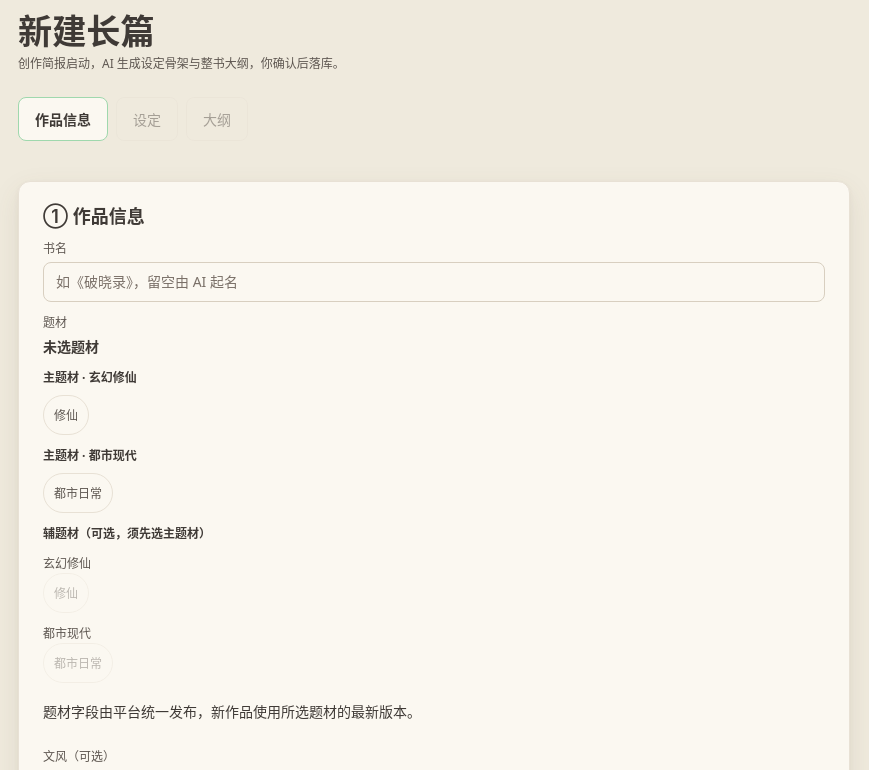
Test: offers the realm ladder only for genres that have one
Click the 1st button "修仙".
click(66, 415)  # box [43,395,89,435]
(page scrolled)
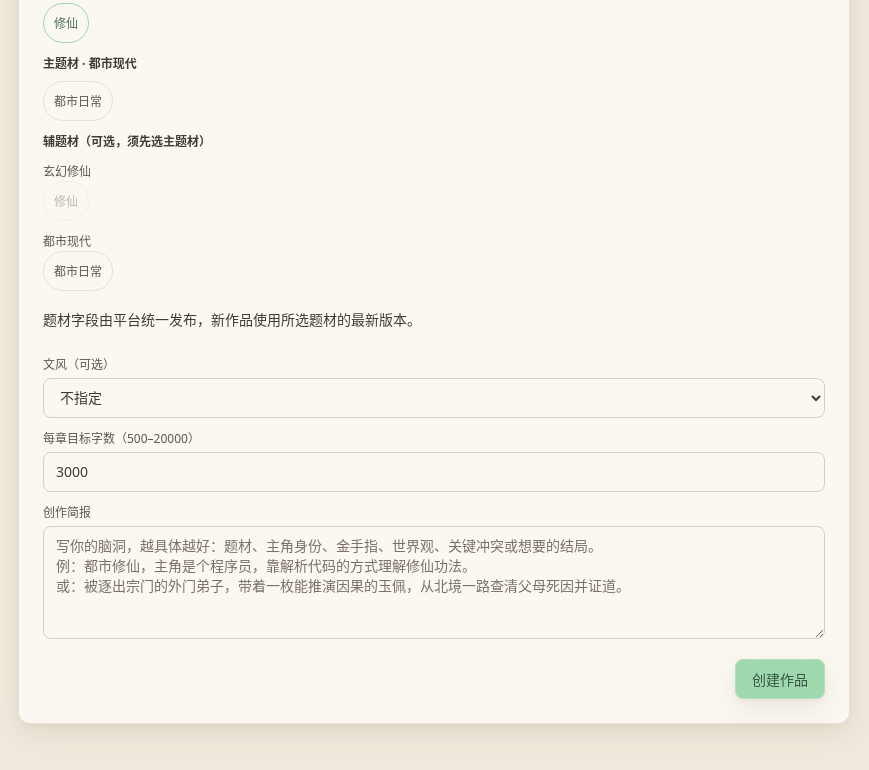
Replace the text in the text box labelled "创作简报" with "寻找真相" at {"x": 434, "y": 582}, box [43,526,825,639]
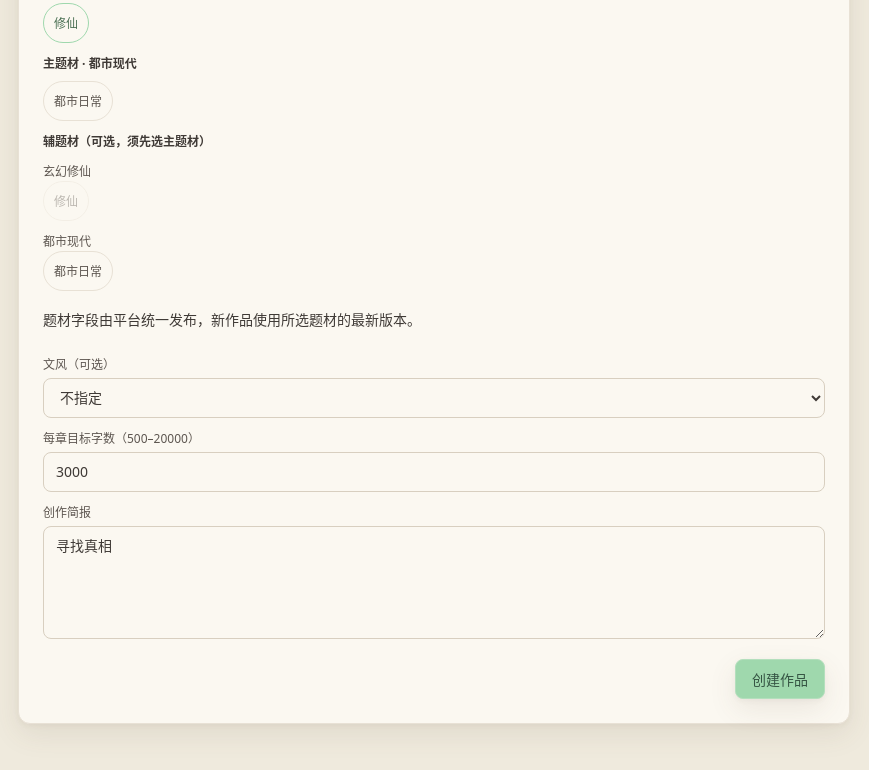
Click the button "创建作品".
click(780, 679)  # box [735,659,825,699]
(page scrolled)
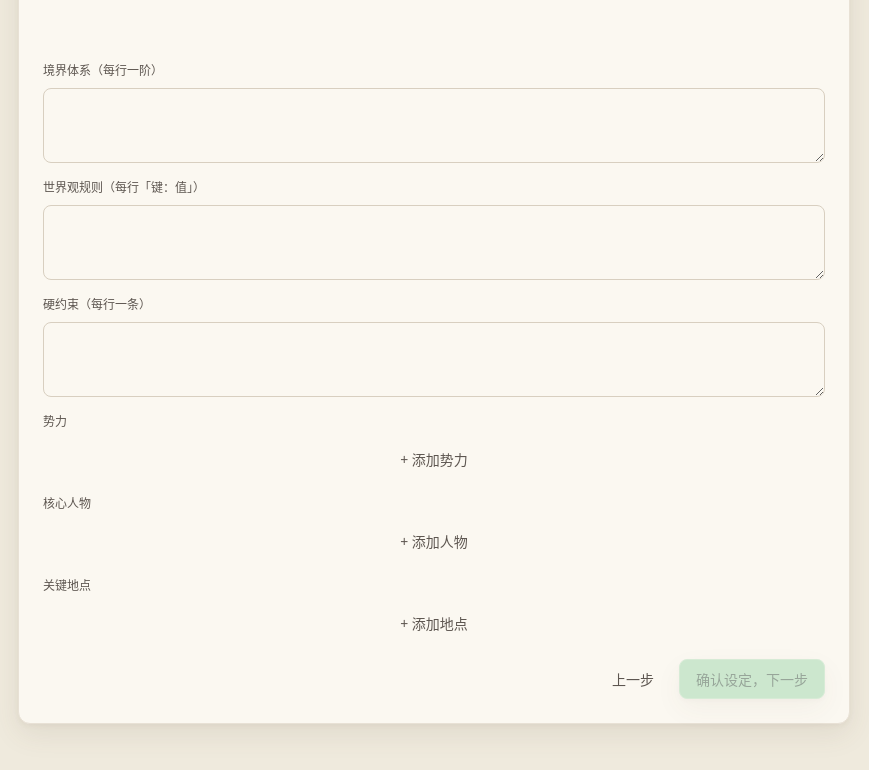
Now the text "世界观规则（每行「键：值」）" is shown, box [43,179,205,196]
Now the text "境界体系（每行一阶）" is shown, box [43,62,163,79]
